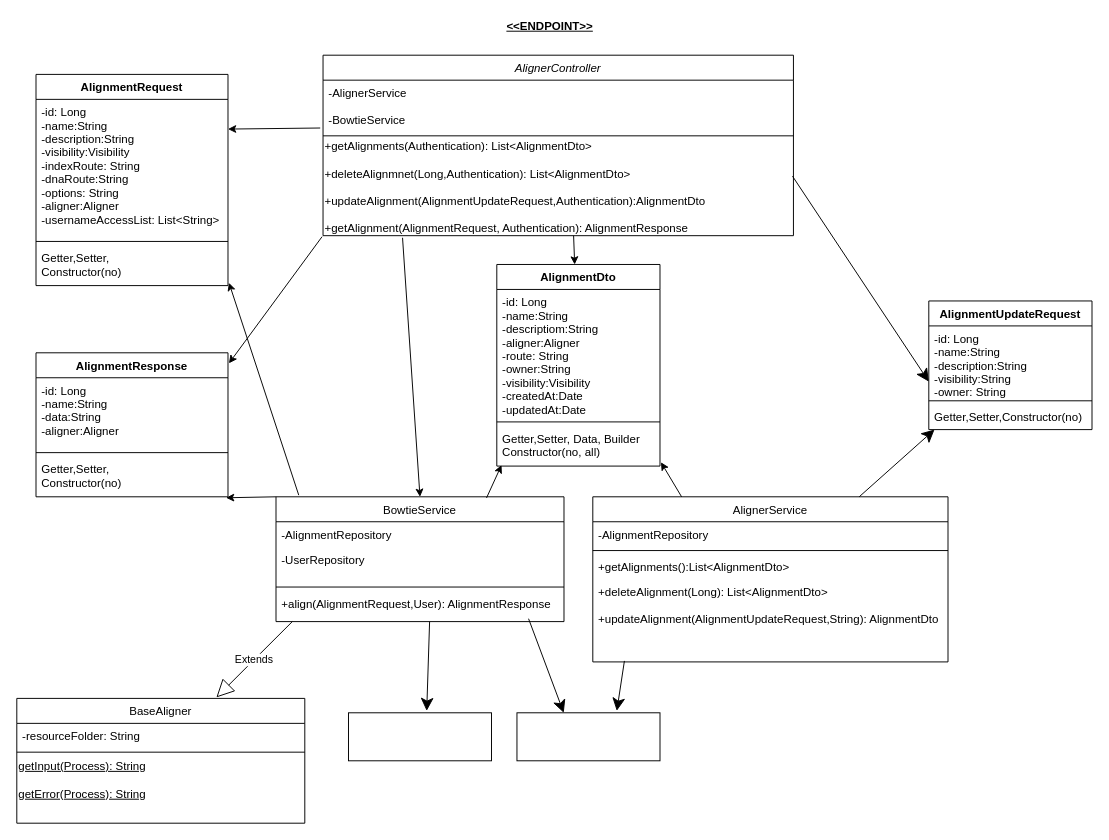
Some shapes in this 1109 by 840 pixel diagram are drawn without their labels. Here are the shapes that lost their labels. From the top down, the centre of each, then its label:
pixel 420 736: UserRepository
pixel 588 736: AlignmentRepository
